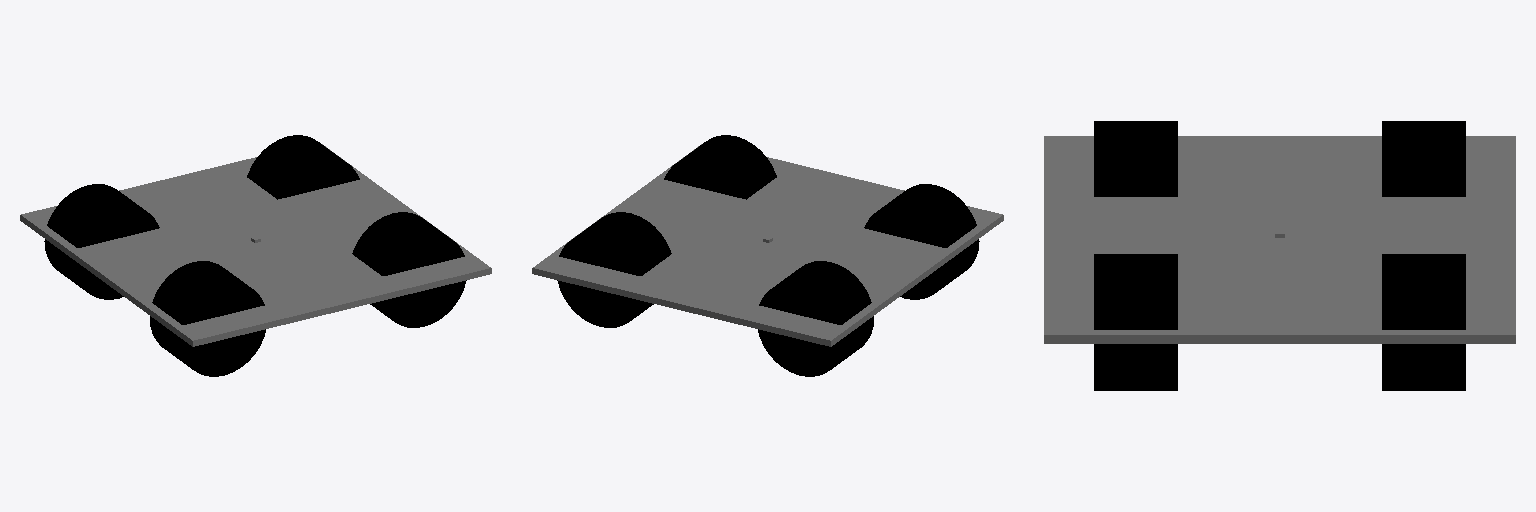
The robot description file, URDF, robot "ugv":
<?xml version="1.0" ?>
<!-- =================================================================================== -->
<!-- |    This document was autogenerated by xacro from ugv_vehicle.xacro              | -->
<!-- |    EDITING THIS FILE BY HAND IS NOT RECOMMENDED                                 | -->
<!-- =================================================================================== -->
<!-- em_3905.urdf.xacro

This file defines a model of a Traxxas(R) E-Maxx(R) #3905 RC (Radio Controlled)
truck.

Lengths are measured in meters, angles are measured in radians, and masses are
measured in kilograms. All of these values are approximations.

To work with Gazebo, each link must have an inertial element, even if
the link only serves to connect two joints. To be visible in Gazebo, a link
must have a collision element. Furthermore, the link must have a Gazebo
material.

Traxxas(R), E-Maxx(R), and Titan(R) are registered trademarks of Traxxas
Management, LLC. em_3905.urdf.xacro was independently created by Wunderkammer
Laboratory, and neither em_3905.urdf.xacro nor Wunderkammer Laboratory is
affiliated with, sponsored by, approved by, or endorsed by Traxxas Management,
LLC. Mabuchi Motor(R) is a registered trademark of Mabuchi Motor Co., Ltd.
Corporation Japan. All other trademarks and service marks are the property of
their respective owners.

Copyright (c) 2011-2014 Wunderkammer Laboratory

Licensed under the Apache License, Version 2.0 (the "License");
you may not use this file except in compliance with the License.
You may obtain a copy of the License at

  http://www.apache.org/licenses/LICENSE-2.0

Unless required by applicable law or agreed to in writing, software
distributed under the License is distributed on an "AS IS" BASIS,
WITHOUT WARRANTIES OR CONDITIONS OF ANY KIND, either express or implied.
See the License for the specific language governing permissions and
limitations under the License.
-->
<robot name="ugv" xmlns:xacro="http://www.ros.org/wiki/xacro">
  <material name="chassis_mat">
    <color rgba="0.5 0.5 0.5 1"/>
  </material>
  <material name="tire_mat">
    <color rgba="0 0 0 1"/>
  </material>
  <!-- base_link must have geometry so that its axes can be displayed in
       rviz. -->
  <link name="base_link">
    <visual>
      <geometry>
        <box size="0.01 0.01 0.01"/>
      </geometry>
      <material name="chassis_mat"/>
    </visual>
  </link>
  <gazebo reference="base_link">
    <material>Gazebo/Grey</material>
  </gazebo>
  <!-- Chassis -->
  <link name="chassis">
    <visual>
      <origin xyz="0 0 -0.005"/>
      <geometry>
        <box size="0.5 0.5 0.01"/>
      </geometry>
      <material name="chassis_mat"/>
    </visual>
    <collision>
      <origin xyz="0 0 -0.005"/>
      <geometry>
        <box size="0.5 0.5 0.01"/>
      </geometry>
    </collision>
    <inertial>
      <origin xyz="0 0 -0.005"/>
      <mass value="2.788"/>
      <inertia ixx="0.0581065666667" ixy="0" ixz="0" iyy="0.0581065666667" iyz="0" izz="0.116166666667"/>
    </inertial>
  </link>
  <gazebo reference="chassis">
    <material>Gazebo/Grey</material>
  </gazebo>
  <joint name="base_link_to_chassis" type="fixed">
    <parent link="base_link"/>
    <child link="chassis"/>
  </joint>
  <joint name="left_front_shock" type="prismatic">
    <parent link="chassis"/>
    <child link="left_steering_link"/>
    <origin xyz="0.1675                    0.1525                    -0.0235"/>
    <axis xyz="0 0 -1"/>
    <limit effort="12.5106" lower="-0.042" upper="0.042" velocity="1000"/>
  </joint>
  <transmission name="left_front_shock_trans">
    <type>transmission_interface/SimpleTransmission</type>
    <joint name="left_front_shock">
      <hardwareInterface>hardware_interface/EffortJointInterface</hardwareInterface>
    </joint>
    <actuator name="left_front_shock_act">
      <!-- This hardwareInterface element exists for compatibility
             with ROS Hydro. -->
      <hardwareInterface>hardware_interface/EffortJointInterface</hardwareInterface>
      <mechanicalReduction>1</mechanicalReduction>
    </actuator>
  </transmission>
  <link name="left_steering_link">
    <inertial>
      <mass value="0.001"/>
      <inertia ixx="0.001" ixy="0" ixz="0" iyy="0.001" iyz="0" izz="0.001"/>
    </inertial>
  </link>
  <joint name="left_steering_joint" type="revolute">
    <parent link="left_steering_link"/>
    <child link="left_front_axle_carrier"/>
    <axis xyz="0 0 1"/>
    <limit effort="0.5649" lower="-0.785398163" upper="0.785398163" velocity="4.553"/>
  </joint>
  <transmission name="left_steering_trans">
    <type>transmission_interface/SimpleTransmission</type>
    <joint name="left_steering_joint">
      <hardwareInterface>hardware_interface/EffortJointInterface</hardwareInterface>
    </joint>
    <actuator name="left_steering_act">
      <!-- This hardwareInterface element exists for compatibility
             with ROS Hydro. -->
      <hardwareInterface>hardware_interface/EffortJointInterface</hardwareInterface>
      <mechanicalReduction>1</mechanicalReduction>
    </actuator>
  </transmission>
  <link name="left_front_axle_carrier">
    <inertial>
      <mass value="0.001"/>
      <inertia ixx="0.001" ixy="0" ixz="0" iyy="0.001" iyz="0" izz="0.001"/>
    </inertial>
  </link>
  <!-- The left and right axles have the same axis so that identical
         rotation values cause the wheels to rotate in the same direction. -->
  <joint name="left_front_axle" type="continuous">
    <parent link="left_front_axle_carrier"/>
    <child link="left_front_wheel"/>
    <origin rpy="1.57079633 0 0"/>
    <axis xyz="0 0 -1"/>
    <limit effort="5.12766" velocity="244.8696"/>
  </joint>
  <transmission name="left_front_axle_trans">
    <type>transmission_interface/SimpleTransmission</type>
    <joint name="left_front_axle">
      <hardwareInterface>hardware_interface/EffortJointInterface</hardwareInterface>
    </joint>
    <actuator name="left_front_axle_act">
      <!-- This hardwareInterface element exists for compatibility
             with ROS Hydro. -->
      <hardwareInterface>hardware_interface/EffortJointInterface</hardwareInterface>
      <mechanicalReduction>1</mechanicalReduction>
    </actuator>
  </transmission>
  <link name="left_front_wheel">
    <visual>
      <origin xyz="0                      -6.93889390391e-18                      0"/>
      <geometry>
        <cylinder length="0.0889" radius="0.073025"/>
      </geometry>
      <material name="tire_mat"/>
    </visual>
    <collision>
      <origin xyz="0                      -6.93889390391e-18                      0"/>
      <geometry>
        <cylinder length="0.0889" radius="0.073025"/>
      </geometry>
    </collision>
    <inertial>
      <mass value="0.29"/>
      <inertia ixx="0.000746465912979" ixy="0" ixz="0" iyy="0.000746465912979" iyz="0" izz="0.00111094334263"/>
    </inertial>
  </link>
  <gazebo reference="left_front_wheel">
    <material>Gazebo/Black</material>
  </gazebo>
  <joint name="right_front_shock" type="prismatic">
    <parent link="chassis"/>
    <child link="right_steering_link"/>
    <origin xyz="0.1675                    -0.1525                    -0.0235"/>
    <axis xyz="0 0 -1"/>
    <limit effort="12.5106" lower="-0.042" upper="0.042" velocity="1000"/>
  </joint>
  <transmission name="right_front_shock_trans">
    <type>transmission_interface/SimpleTransmission</type>
    <joint name="right_front_shock">
      <hardwareInterface>hardware_interface/EffortJointInterface</hardwareInterface>
    </joint>
    <actuator name="right_front_shock_act">
      <!-- This hardwareInterface element exists for compatibility
             with ROS Hydro. -->
      <hardwareInterface>hardware_interface/EffortJointInterface</hardwareInterface>
      <mechanicalReduction>1</mechanicalReduction>
    </actuator>
  </transmission>
  <link name="right_steering_link">
    <inertial>
      <mass value="0.001"/>
      <inertia ixx="0.001" ixy="0" ixz="0" iyy="0.001" iyz="0" izz="0.001"/>
    </inertial>
  </link>
  <joint name="right_steering_joint" type="revolute">
    <parent link="right_steering_link"/>
    <child link="right_front_axle_carrier"/>
    <axis xyz="0 0 1"/>
    <limit effort="0.5649" lower="-0.785398163" upper="0.785398163" velocity="4.553"/>
  </joint>
  <transmission name="right_steering_trans">
    <type>transmission_interface/SimpleTransmission</type>
    <joint name="right_steering_joint">
      <hardwareInterface>hardware_interface/EffortJointInterface</hardwareInterface>
    </joint>
    <actuator name="right_steering_act">
      <!-- This hardwareInterface element exists for compatibility
             with ROS Hydro. -->
      <hardwareInterface>hardware_interface/EffortJointInterface</hardwareInterface>
      <mechanicalReduction>1</mechanicalReduction>
    </actuator>
  </transmission>
  <link name="right_front_axle_carrier">
    <inertial>
      <mass value="0.001"/>
      <inertia ixx="0.001" ixy="0" ixz="0" iyy="0.001" iyz="0" izz="0.001"/>
    </inertial>
  </link>
  <!-- The left and right axles have the same axis so that identical
         rotation values cause the wheels to rotate in the same direction. -->
  <joint name="right_front_axle" type="continuous">
    <parent link="right_front_axle_carrier"/>
    <child link="right_front_wheel"/>
    <origin rpy="1.57079633 0 0"/>
    <axis xyz="0 0 -1"/>
    <limit effort="5.12766" velocity="244.8696"/>
  </joint>
  <transmission name="right_front_axle_trans">
    <type>transmission_interface/SimpleTransmission</type>
    <joint name="right_front_axle">
      <hardwareInterface>hardware_interface/EffortJointInterface</hardwareInterface>
    </joint>
    <actuator name="right_front_axle_act">
      <!-- This hardwareInterface element exists for compatibility
             with ROS Hydro. -->
      <hardwareInterface>hardware_interface/EffortJointInterface</hardwareInterface>
      <mechanicalReduction>1</mechanicalReduction>
    </actuator>
  </transmission>
  <link name="right_front_wheel">
    <visual>
      <origin xyz="0                      6.93889390391e-18                      0"/>
      <geometry>
        <cylinder length="0.0889" radius="0.073025"/>
      </geometry>
      <material name="tire_mat"/>
    </visual>
    <collision>
      <origin xyz="0                      6.93889390391e-18                      0"/>
      <geometry>
        <cylinder length="0.0889" radius="0.073025"/>
      </geometry>
    </collision>
    <inertial>
      <mass value="0.29"/>
      <inertia ixx="0.000746465912979" ixy="0" ixz="0" iyy="0.000746465912979" iyz="0" izz="0.00111094334263"/>
    </inertial>
  </link>
  <gazebo reference="right_front_wheel">
    <material>Gazebo/Black</material>
  </gazebo>
  <joint name="left_rear_shock" type="prismatic">
    <parent link="chassis"/>
    <child link="left_rear_axle_carrier"/>
    <origin xyz="-0.1675                    0.1525                    -0.0235"/>
    <axis xyz="0 0 -1"/>
    <limit effort="12.5106" lower="-0.042" upper="0.042" velocity="1000"/>
  </joint>
  <transmission name="left_rear_shock_trans">
    <type>transmission_interface/SimpleTransmission</type>
    <joint name="left_rear_shock">
      <hardwareInterface>hardware_interface/EffortJointInterface</hardwareInterface>
    </joint>
    <actuator name="left_rear_shock_act">
      <!-- This hardwareInterface element exists for compatibility
             with ROS Hydro. -->
      <hardwareInterface>hardware_interface/EffortJointInterface</hardwareInterface>
      <mechanicalReduction>1</mechanicalReduction>
    </actuator>
  </transmission>
  <link name="left_rear_axle_carrier">
    <inertial>
      <mass value="0.001"/>
      <inertia ixx="0.001" ixy="0" ixz="0" iyy="0.001" iyz="0" izz="0.001"/>
    </inertial>
  </link>
  <!-- The left and right axles have the same axis so that identical
         rotation values cause the wheels to rotate in the same direction. -->
  <joint name="left_rear_axle" type="continuous">
    <parent link="left_rear_axle_carrier"/>
    <child link="left_rear_wheel"/>
    <origin rpy="1.57079633 0 0"/>
    <axis xyz="0 0 -1"/>
    <limit effort="5.12766" velocity="244.8696"/>
  </joint>
  <transmission name="left_rear_axle_trans">
    <type>transmission_interface/SimpleTransmission</type>
    <joint name="left_rear_axle">
      <hardwareInterface>hardware_interface/EffortJointInterface</hardwareInterface>
    </joint>
    <actuator name="left_rear_axle_act">
      <!-- This hardwareInterface element exists for compatibility
             with ROS Hydro. -->
      <hardwareInterface>hardware_interface/EffortJointInterface</hardwareInterface>
      <mechanicalReduction>1</mechanicalReduction>
    </actuator>
  </transmission>
  <link name="left_rear_wheel">
    <visual>
      <origin xyz="0                      -6.93889390391e-18                      0"/>
      <geometry>
        <cylinder length="0.0889" radius="0.073025"/>
      </geometry>
      <material name="tire_mat"/>
    </visual>
    <collision>
      <origin xyz="0                      -6.93889390391e-18                      0"/>
      <geometry>
        <cylinder length="0.0889" radius="0.073025"/>
      </geometry>
    </collision>
    <inertial>
      <mass value="0.29"/>
      <inertia ixx="0.000746465912979" ixy="0" ixz="0" iyy="0.000746465912979" iyz="0" izz="0.00111094334263"/>
    </inertial>
  </link>
  <gazebo reference="left_rear_wheel">
    <material>Gazebo/Black</material>
  </gazebo>
  <joint name="right_rear_shock" type="prismatic">
    <parent link="chassis"/>
    <child link="right_rear_axle_carrier"/>
    <origin xyz="-0.1675                    -0.1525                    -0.0235"/>
    <axis xyz="0 0 -1"/>
    <limit effort="12.5106" lower="-0.042" upper="0.042" velocity="1000"/>
  </joint>
  <transmission name="right_rear_shock_trans">
    <type>transmission_interface/SimpleTransmission</type>
    <joint name="right_rear_shock">
      <hardwareInterface>hardware_interface/EffortJointInterface</hardwareInterface>
    </joint>
    <actuator name="right_rear_shock_act">
      <!-- This hardwareInterface element exists for compatibility
             with ROS Hydro. -->
      <hardwareInterface>hardware_interface/EffortJointInterface</hardwareInterface>
      <mechanicalReduction>1</mechanicalReduction>
    </actuator>
  </transmission>
  <link name="right_rear_axle_carrier">
    <inertial>
      <mass value="0.001"/>
      <inertia ixx="0.001" ixy="0" ixz="0" iyy="0.001" iyz="0" izz="0.001"/>
    </inertial>
  </link>
  <!-- The left and right axles have the same axis so that identical
         rotation values cause the wheels to rotate in the same direction. -->
  <joint name="right_rear_axle" type="continuous">
    <parent link="right_rear_axle_carrier"/>
    <child link="right_rear_wheel"/>
    <origin rpy="1.57079633 0 0"/>
    <axis xyz="0 0 -1"/>
    <limit effort="5.12766" velocity="244.8696"/>
  </joint>
  <transmission name="right_rear_axle_trans">
    <type>transmission_interface/SimpleTransmission</type>
    <joint name="right_rear_axle">
      <hardwareInterface>hardware_interface/EffortJointInterface</hardwareInterface>
    </joint>
    <actuator name="right_rear_axle_act">
      <!-- This hardwareInterface element exists for compatibility
             with ROS Hydro. -->
      <hardwareInterface>hardware_interface/EffortJointInterface</hardwareInterface>
      <mechanicalReduction>1</mechanicalReduction>
    </actuator>
  </transmission>
  <link name="right_rear_wheel">
    <visual>
      <origin xyz="0                      6.93889390391e-18                      0"/>
      <geometry>
        <cylinder length="0.0889" radius="0.073025"/>
      </geometry>
      <material name="tire_mat"/>
    </visual>
    <collision>
      <origin xyz="0                      6.93889390391e-18                      0"/>
      <geometry>
        <cylinder length="0.0889" radius="0.073025"/>
      </geometry>
    </collision>
    <inertial>
      <mass value="0.29"/>
      <inertia ixx="0.000746465912979" ixy="0" ixz="0" iyy="0.000746465912979" iyz="0" izz="0.00111094334263"/>
    </inertial>
  </link>
  <gazebo reference="right_rear_wheel">
    <material>Gazebo/Black</material>
  </gazebo>
  <gazebo>
    <plugin filename="libgazebo_ros_control.so" name="gazebo_ros_control">
      <robotSimType>gazebo_ros_control/DefaultRobotHWSim</robotSimType>
      <legacyModeNS>true</legacyModeNS>
    </plugin>
  </gazebo>
</robot>

--- What the picture shows (computed from the rendered views, not written in the file) ---
3 views of the same robot in one strip: view 1: azimuth 30°, elevation 25°; view 2: azimuth 150°, elevation 25°; view 3: azimuth 270°, elevation 25° (orthographic).
Model ugv with 12 links and 11 joints (2 revolute, 4 continuous, 4 prismatic, 1 fixed), rooted at base_link, posed all joints at 0.
Links seen in each view (by area): view 1: chassis, right_rear_wheel, right_front_wheel, left_rear_wheel, left_front_wheel; view 2: chassis, left_rear_wheel, left_front_wheel, right_rear_wheel, right_front_wheel; view 3: chassis, left_front_wheel, right_front_wheel, left_rear_wheel, right_rear_wheel.
Link boxes in pixels (left/top/right/bottom): chassis: left=20, top=144, right=491, bottom=346; right_rear_wheel: left=150, top=261, right=265, bottom=376; right_front_wheel: left=352, top=212, right=466, bottom=327; left_rear_wheel: left=44, top=184, right=159, bottom=299; left_front_wheel: left=247, top=135, right=359, bottom=199; chassis: left=532, top=144, right=1003, bottom=346; left_rear_wheel: left=758, top=261, right=873, bottom=376; left_front_wheel: left=557, top=212, right=671, bottom=327; right_rear_wheel: left=864, top=184, right=979, bottom=299; right_front_wheel: left=664, top=135, right=776, bottom=199; chassis: left=1044, top=136, right=1515, bottom=343; left_front_wheel: left=1382, top=254, right=1465, bottom=390; right_front_wheel: left=1094, top=254, right=1177, bottom=390; left_rear_wheel: left=1382, top=121, right=1465, bottom=196; right_rear_wheel: left=1094, top=121, right=1177, bottom=196.
Size in the robot's own frame: 0.5 by 0.5 by 0.1461 metres.
Geometry: primitives only (box / cylinder / sphere), no mesh files.
